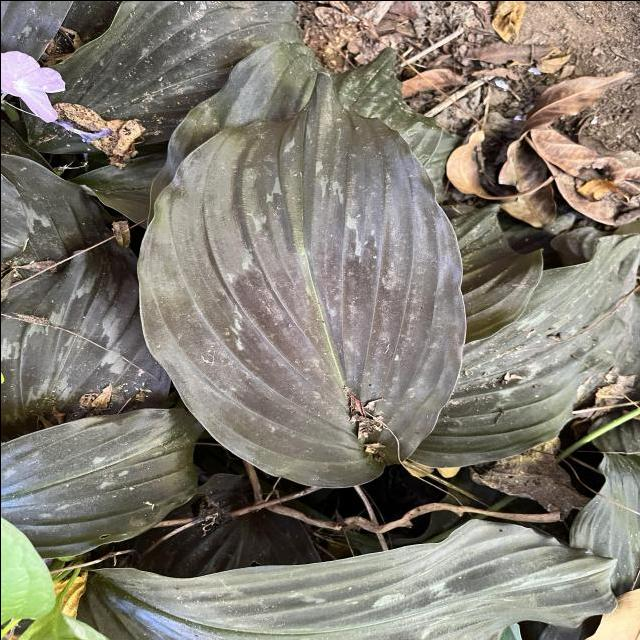Kaempferia galanga linn: (130, 68, 468, 491)
